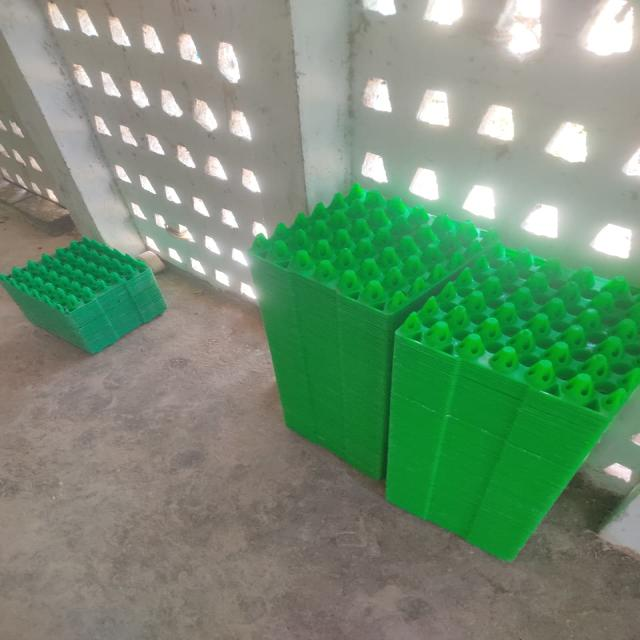egg_tray: (400, 248, 639, 414), (251, 184, 496, 312), (0, 238, 165, 352), (3, 238, 148, 313)
